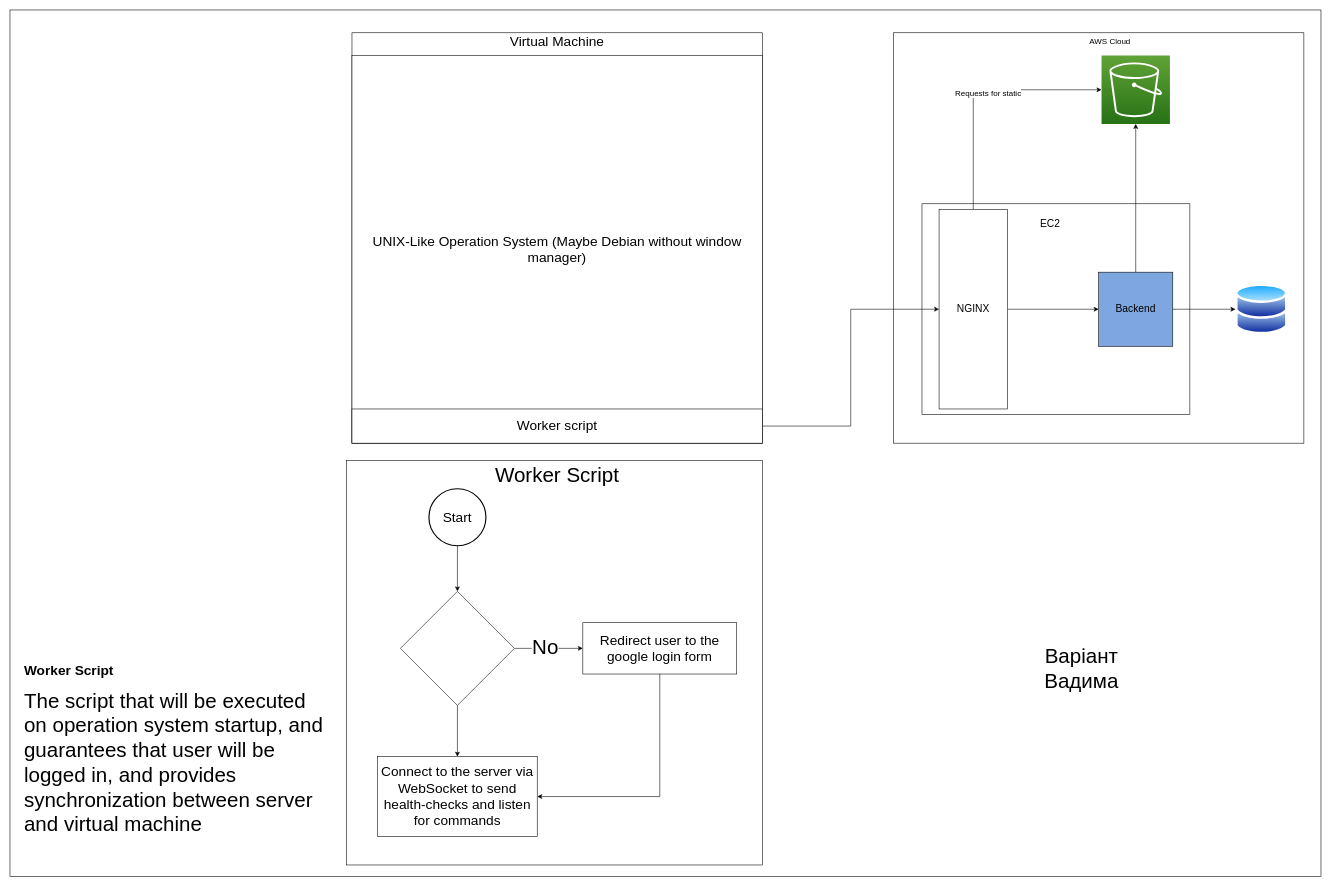
The diagram is 1331 pixels wide and 886 high, and some of its shapes have lost their labels. Each missing label, with the centre of its shape:
"PostgreSQL" belongs at (1261,309).
"Static and media files" belongs at (1135,89).
"User logged in?" belongs at (457,648).
